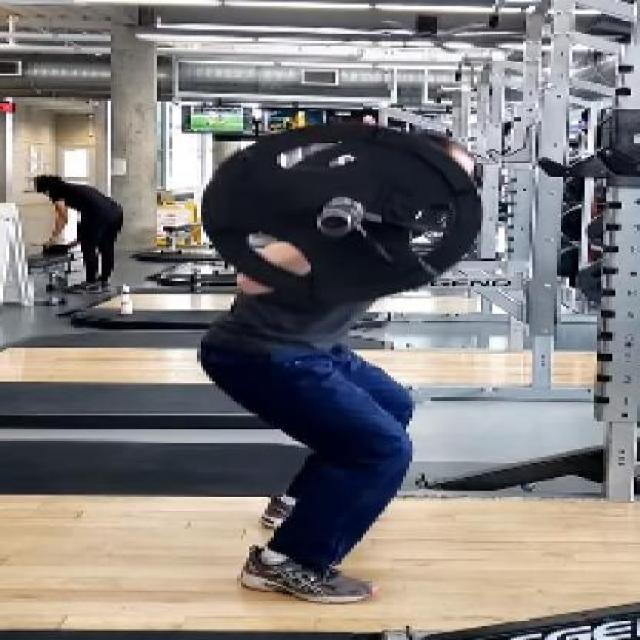barbell: (186, 116, 499, 310)
